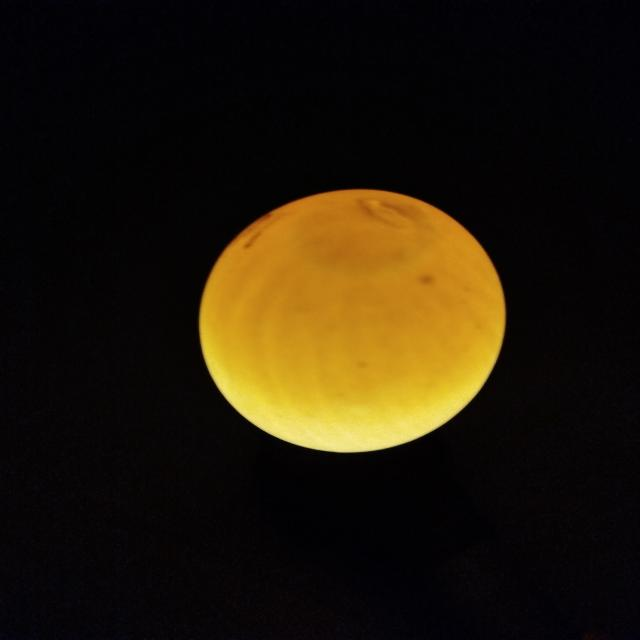Camara de Ar: (295, 195, 431, 274)
Rachadura: (358, 199, 415, 228)
